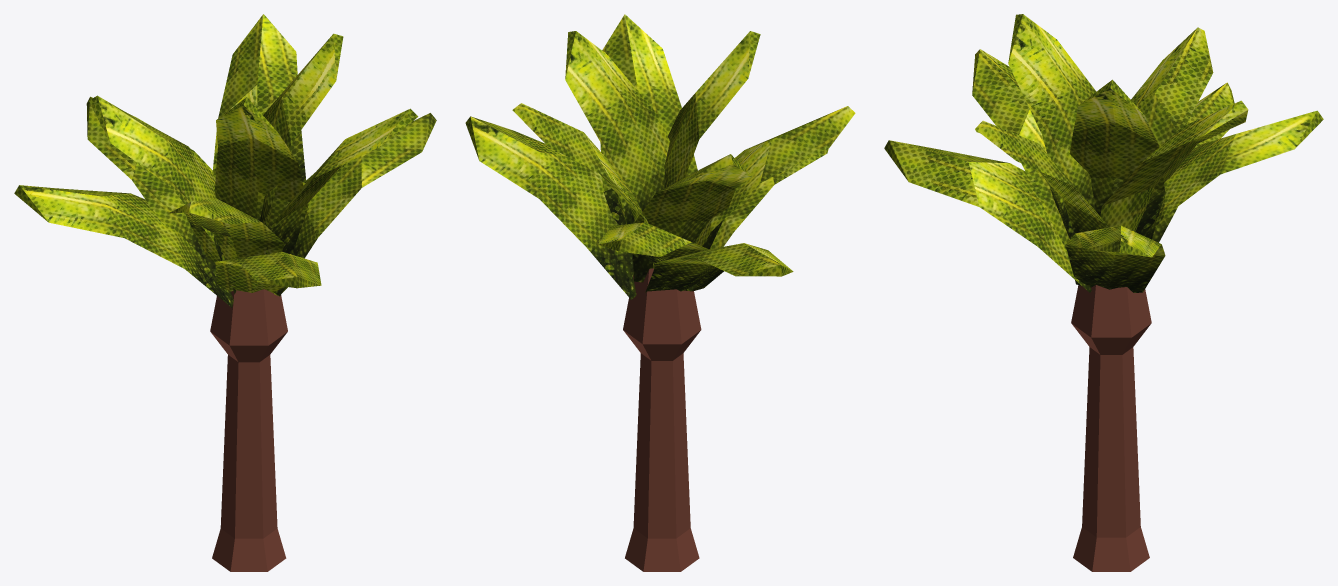
File: SM_DesertTree_D.fbx
3 renders of one model, left to right at view 1: azimuth 30°, elevation 25°; view 2: azimuth 150°, elevation 25°; view 3: azimuth 270°, elevation 25°, orthographic. The views are drawn at different scales.
Visible parts, largest first — view 1: SM_DesertTree_D; view 2: SM_DesertTree_D; view 3: SM_DesertTree_D.
Part boxes in pixels (bbox=[...]): SM_DesertTree_D: bbox=[14, 14, 436, 571]; SM_DesertTree_D: bbox=[465, 14, 855, 571]; SM_DesertTree_D: bbox=[884, 14, 1323, 571].
Size of the model in its own units: 244 by 318 by 243.
